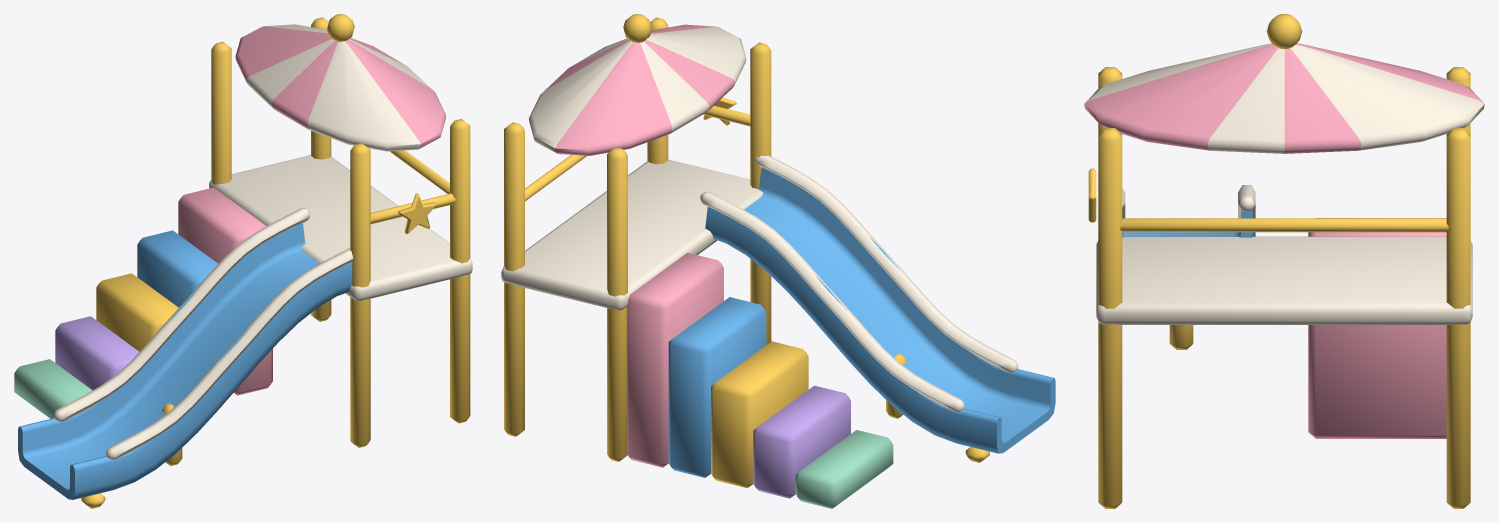
Rendered from prop_dino_slide.glb.
3 views of the same model, side by side, from view 1: azimuth 30°, elevation 25°; view 2: azimuth 150°, elevation 25°; view 3: azimuth 270°, elevation 25° (orthographic). The views are drawn at different scales.
Visible parts, largest first — view 1: prop_dino_slide; view 2: prop_dino_slide; view 3: prop_dino_slide.
Boxes of the visible parts, x1=… form: prop_dino_slide: x1=14, y1=14, x2=472, y2=508; prop_dino_slide: x1=501, y1=14, x2=1055, y2=508; prop_dino_slide: x1=1084, y1=14, x2=1484, y2=508.
Size of the model in its own units: 2.96 by 2.57 by 2.02.
